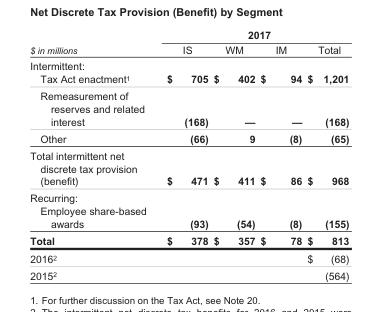table: (29, 28, 348, 280)
table column: (29, 28, 155, 280), (155, 28, 210, 280), (210, 28, 257, 280), (257, 28, 303, 280), (303, 28, 348, 280)
table column header: (29, 28, 348, 57)
table projected row header: (29, 57, 348, 72), (29, 189, 348, 204)
table row: (29, 146, 348, 189), (29, 87, 348, 129), (29, 204, 348, 231), (29, 231, 348, 249), (29, 129, 348, 146), (29, 249, 348, 266), (29, 41, 348, 57), (29, 57, 348, 72), (29, 72, 348, 87), (29, 189, 348, 204), (29, 266, 348, 280), (29, 28, 348, 41)
table spanning cell: (29, 28, 155, 57), (155, 28, 348, 41)
